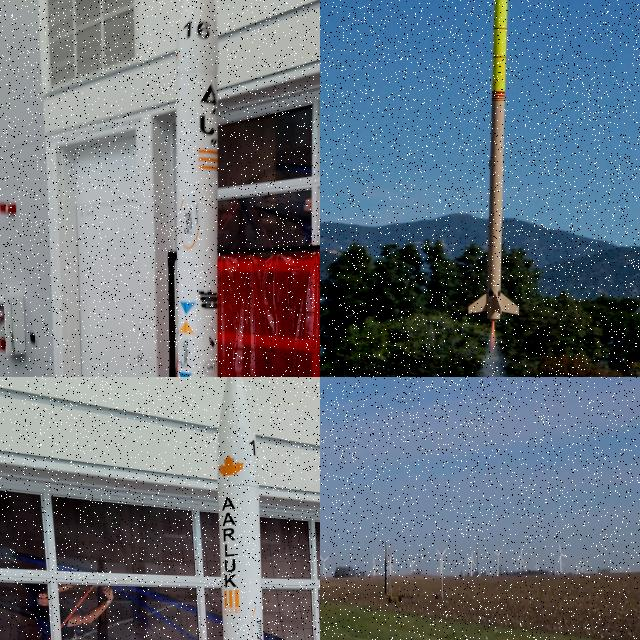Rocket: (466, 0, 521, 323), (175, 0, 219, 377), (217, 377, 264, 640), (384, 556, 386, 592)
